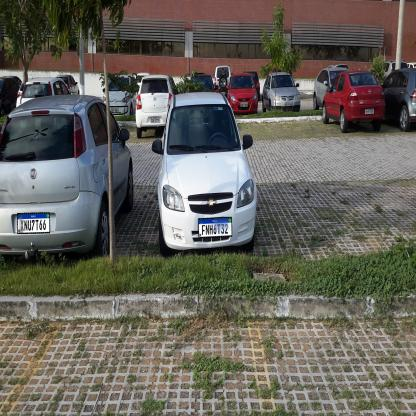PlacaM: (17, 212, 50, 234), (198, 217, 232, 238)
